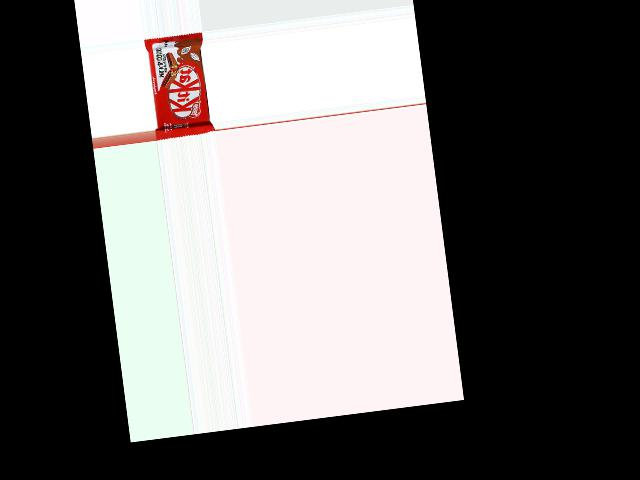chocolate: (143, 31, 214, 139)
